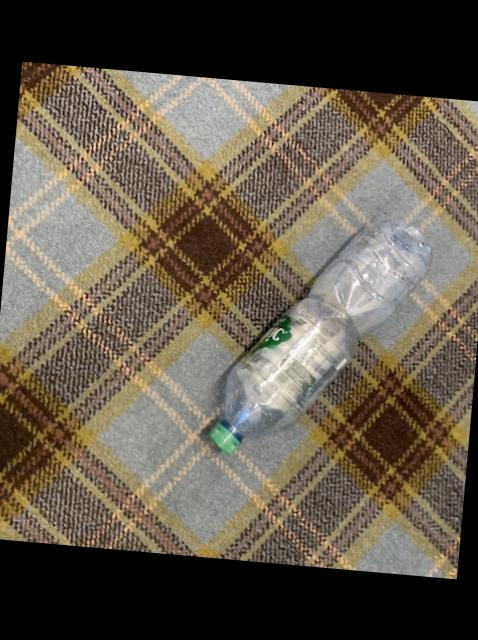plastic: (209, 219, 431, 455)
